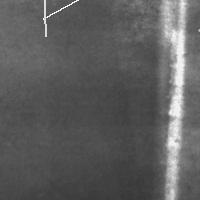scratches: (156, 1, 187, 199), (38, 0, 118, 23), (37, 0, 51, 41), (193, 24, 200, 61)
